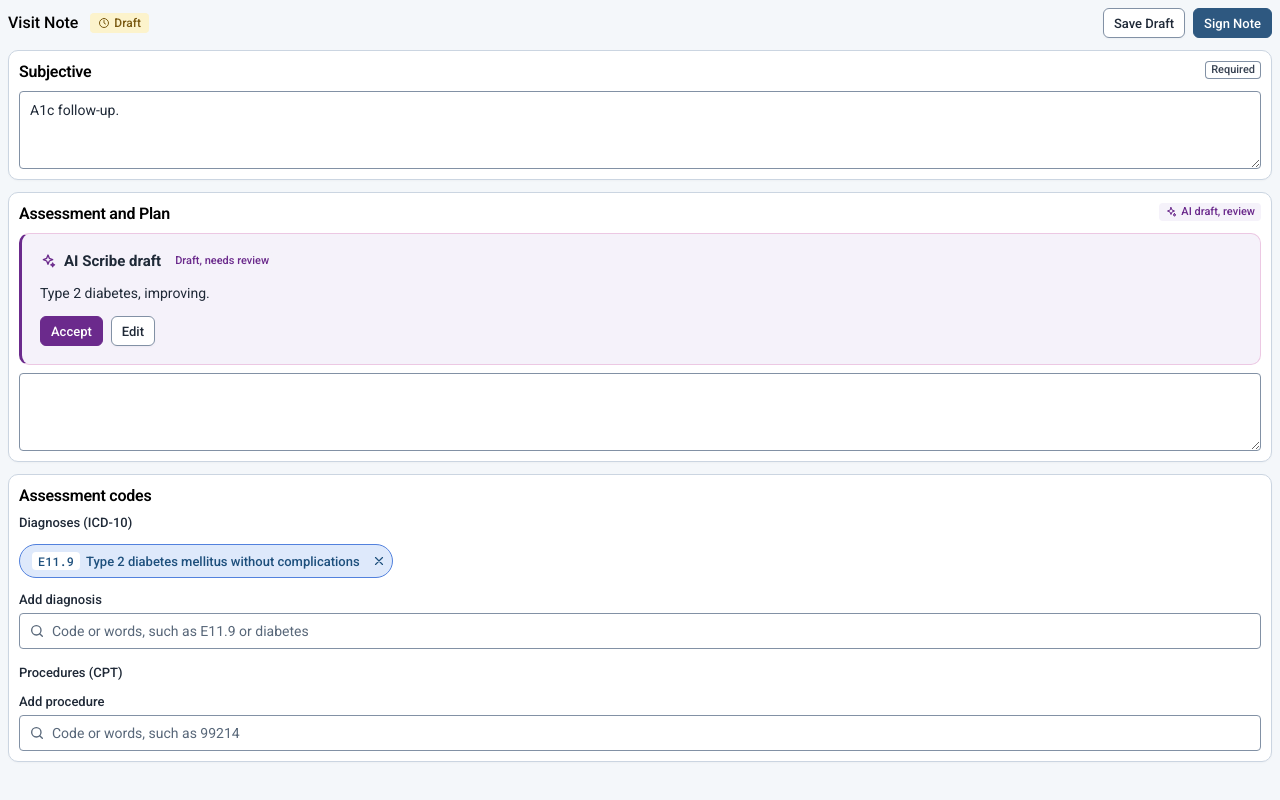
Test: VisitNoteEditor › signs and locks the note
The image size is (1280, 800).
Click the button "Sign Note".
click(1233, 23)  # box top-left (1193, 8), bottom-right (1272, 38)
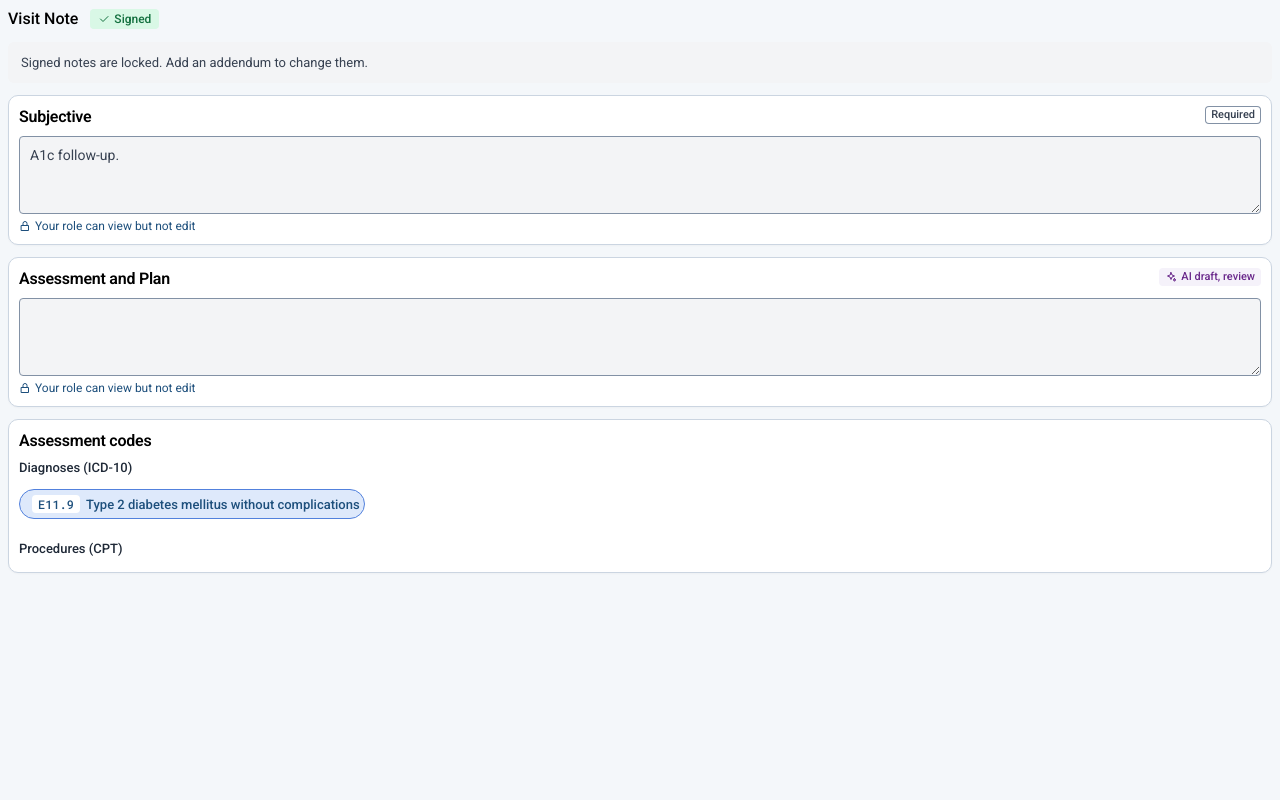
Check: the text "Signed" is shown, box top-left (90, 9), bottom-right (159, 29)
Check: the text "Signed notes are locked. Add an addendum to change them." is shown, box top-left (21, 55), bottom-right (368, 70)
Check: the label "Add diagnosis" is gone
